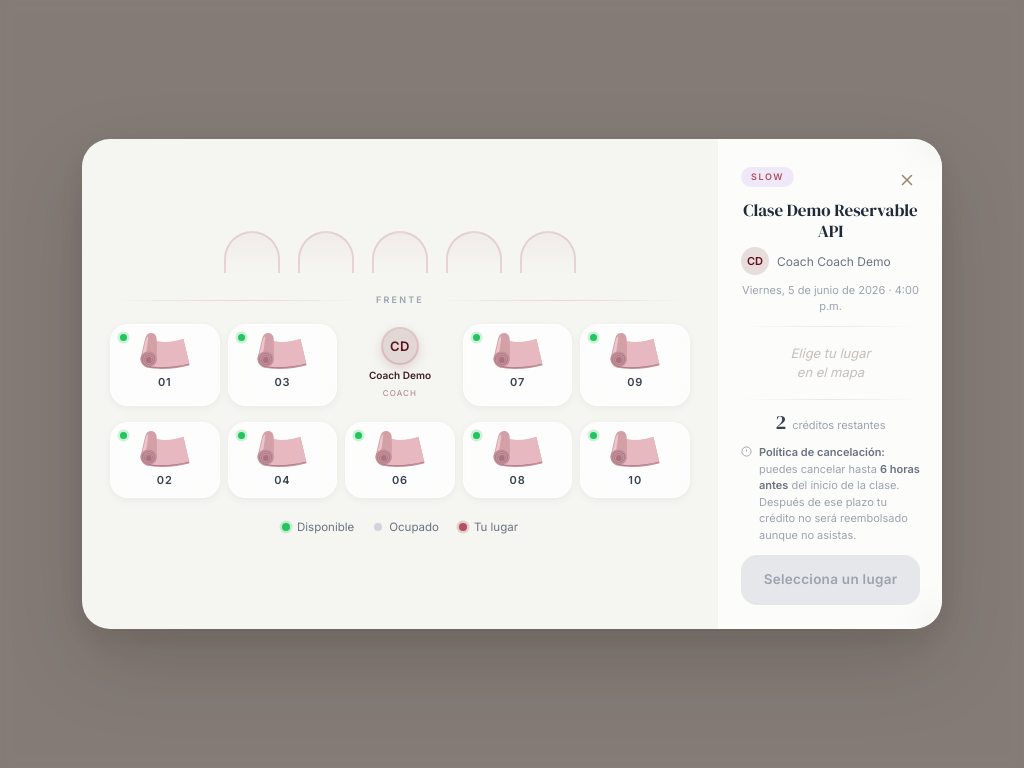
EquipmentReservationPanel › bloquea confirmaciÃƒÆ’Ã†â€™Ãƒâ€ Ã¢â‚¬â„¢ÃƒÆ’Ã¢â‚¬Å¡Ãƒâ€šÃ‚Â³n si occurrence pertenece a otra clase
Click the button with test id "slow-spot-01" at point(165, 365), box x1=110 y1=324 x2=220 y2=406
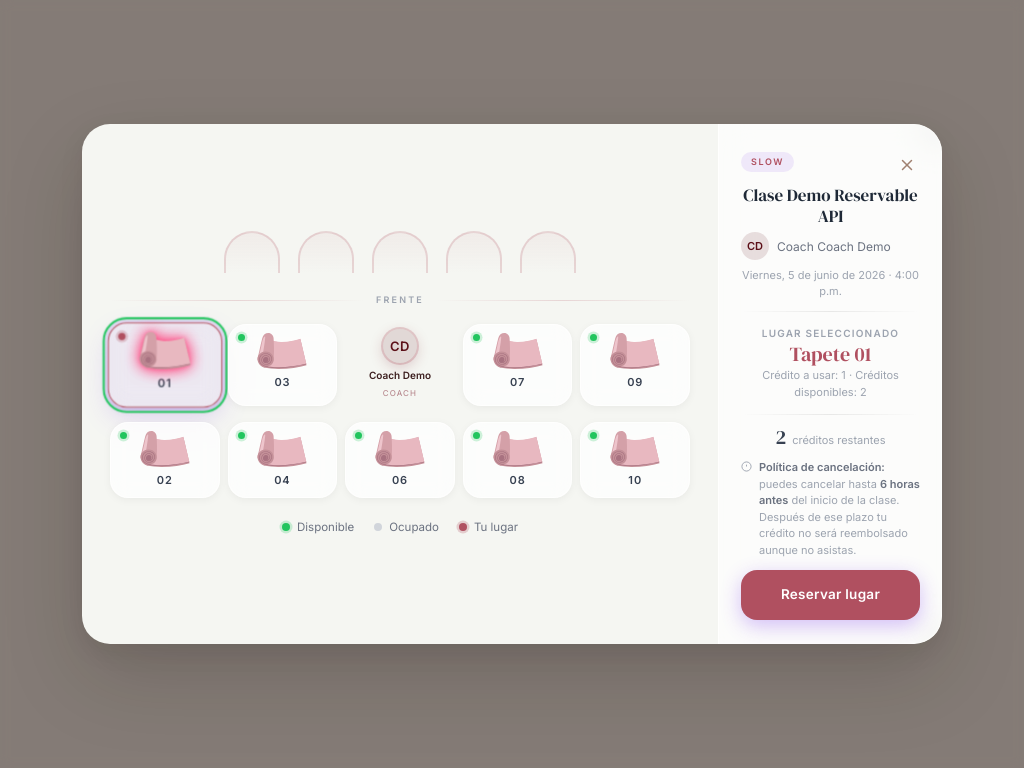
Click the button "Reservar lugar" at point(830, 595), box x1=741 y1=570 x2=920 y2=620
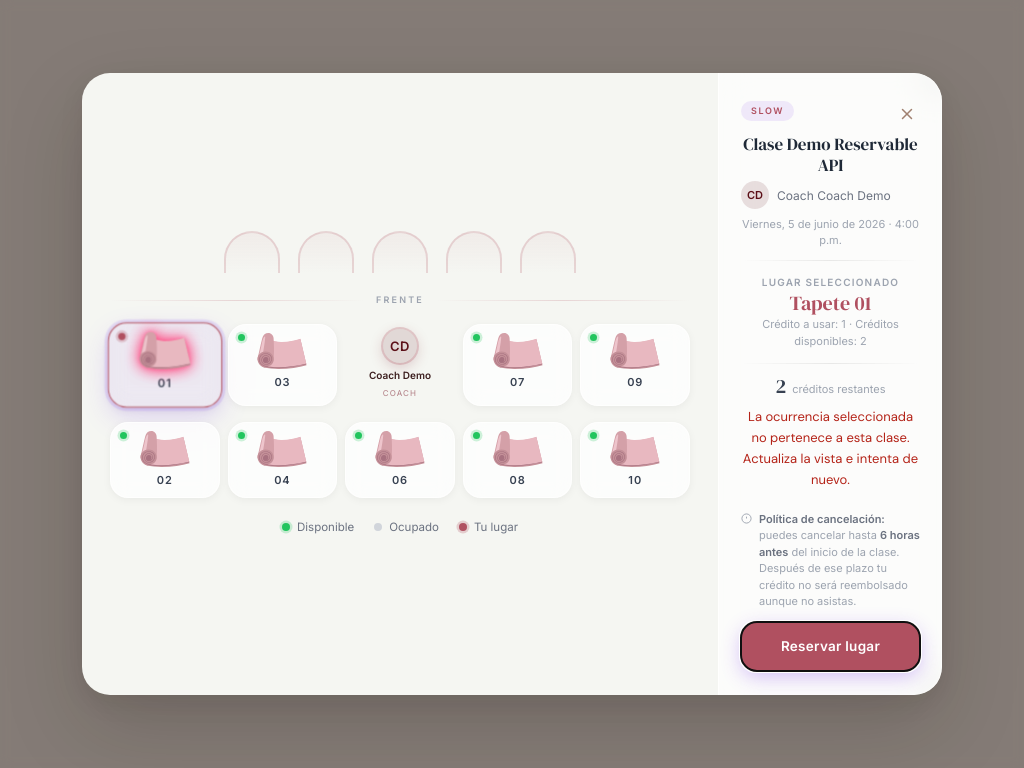
expect the text "La ocurrencia seleccionada no pertenece a esta clase. Actualiza la vista e intenta de nuevo." is shown: met, box x1=743 y1=408 x2=918 y2=488
